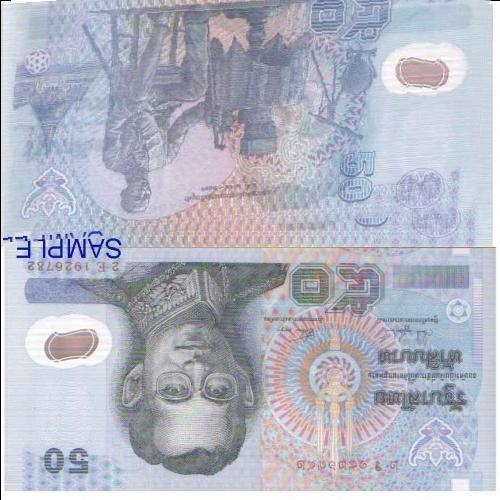50BahtTai: (3, 0, 493, 244)
